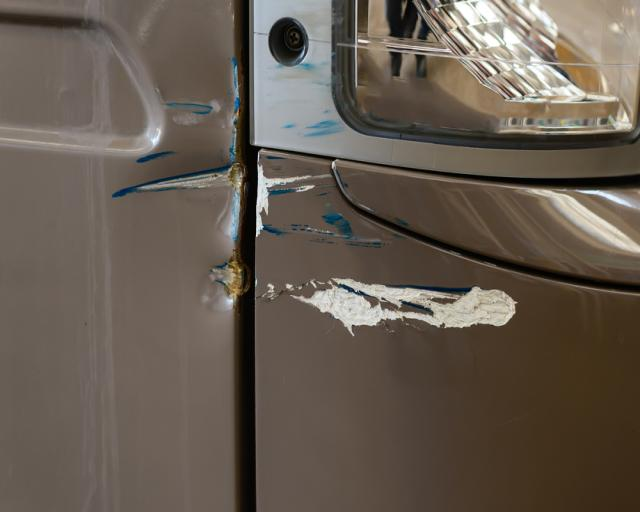dent: (143, 146, 244, 310)
scratch: (255, 150, 526, 341), (108, 50, 241, 202), (277, 55, 344, 143)
